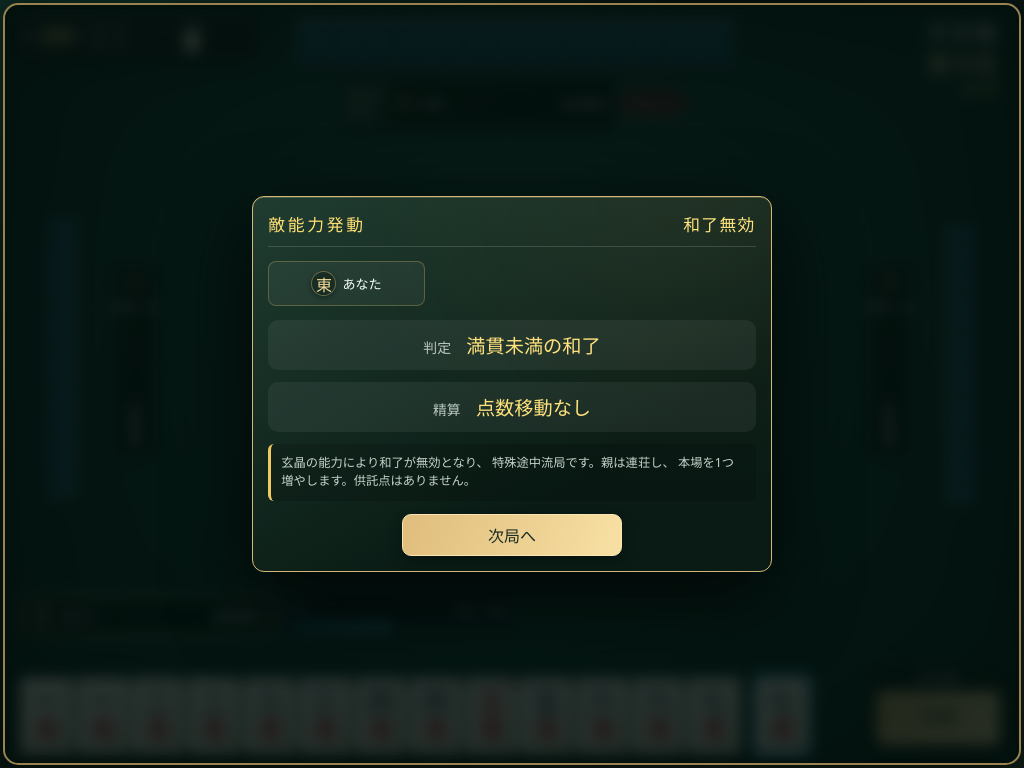
Scenario: 敵15 E-27の結果画面 › 次局へ進むと結果画面を閉じて親連荘する
Click the button "次局へ" at point(512, 535), box [402,514,622,556]
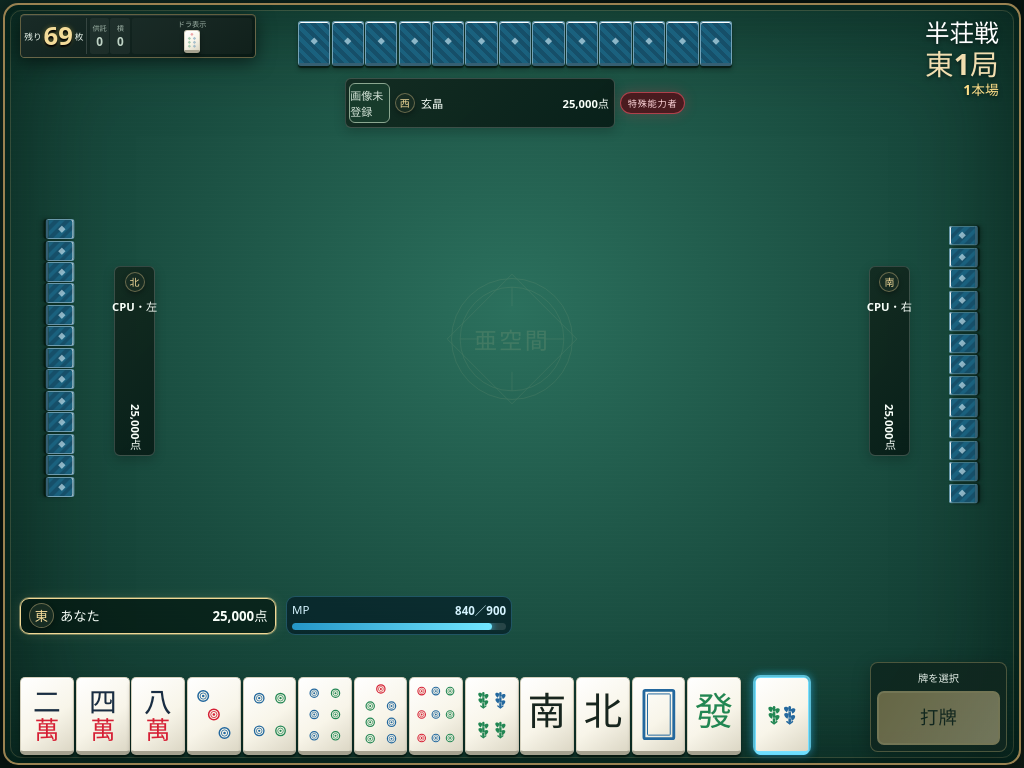
Expected: the dialog "玄晶の能力による特殊途中流局結果" is gone
Expected: the text "1本場" is shown, [963,83,999,98]
